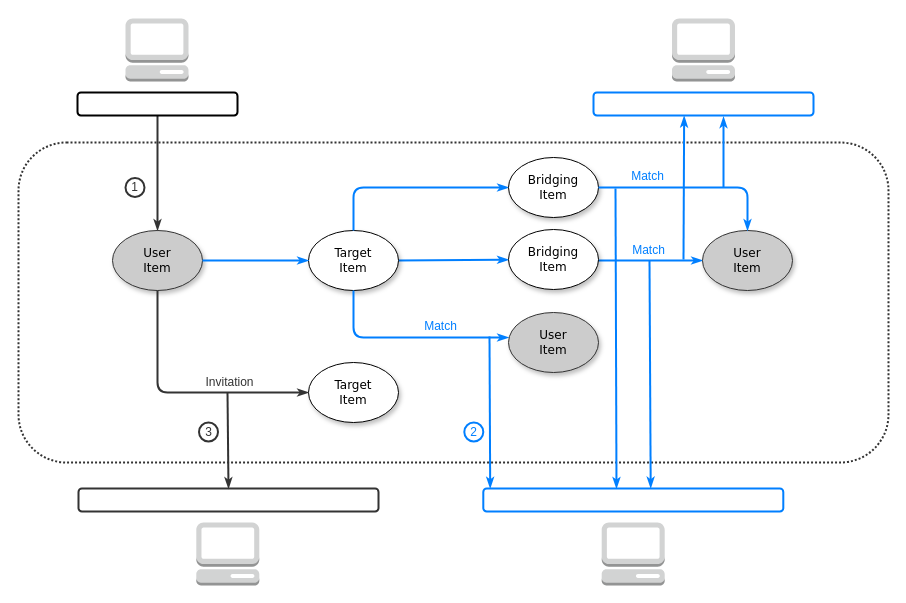
The diagram is 906 pixels wide and 603 high, and some of its shapes have lost their labels. The centre of each missing label's shape, as x and y in pixels:
"An user sends want" goes at (x=157, y=103).
"Return match results to user" goes at (x=703, y=103).
"Send match invitation to non-matchers" goes at (x=228, y=499).
"Send match notification to other matchers" goes at (x=633, y=499).
